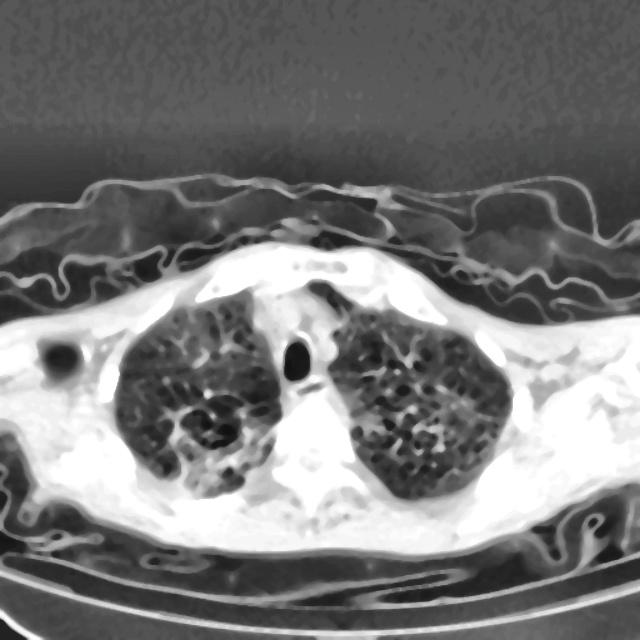covid: (0, 172, 639, 635)
